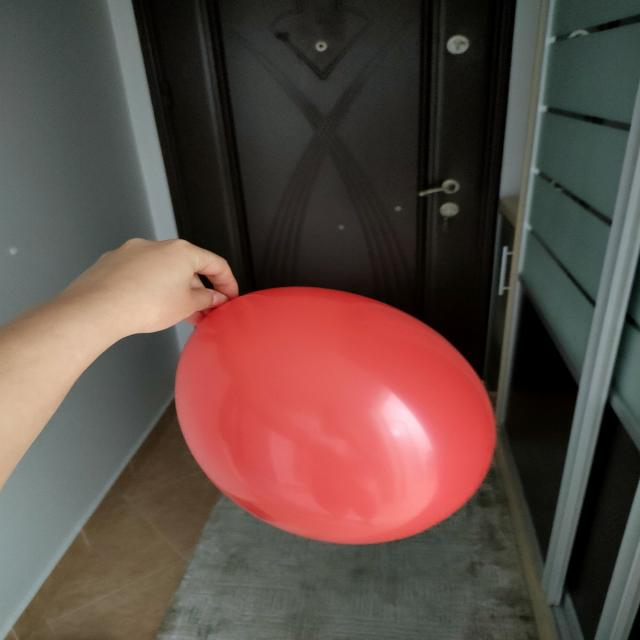red: (178, 284, 497, 546)
